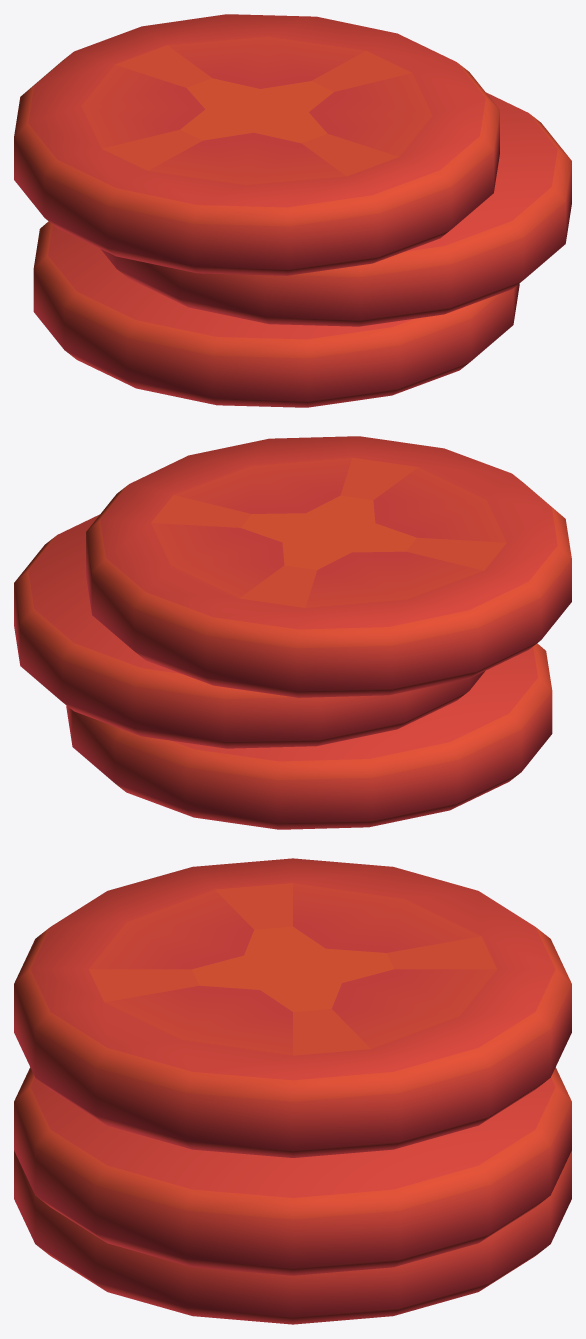
File: Cut tomatoes.glb
3 renders of one model, top to bottom at view 1: azimuth 30°, elevation 25°; view 2: azimuth 150°, elevation 25°; view 3: azimuth 270°, elevation 25°, orthographic. The views are drawn at different scales.
Visible parts, largest first — view 1: food_ingredient_tomato_slices; view 2: food_ingredient_tomato_slices; view 3: food_ingredient_tomato_slices.
Part boxes in pixels (bbox=[...]): food_ingredient_tomato_slices: bbox=[14, 14, 571, 407]; food_ingredient_tomato_slices: bbox=[14, 436, 571, 829]; food_ingredient_tomato_slices: bbox=[14, 858, 571, 1324].
Size of the model in its own units: 0.76 by 0.3 by 0.65.
Materials: 1 (1 with a texture image).
